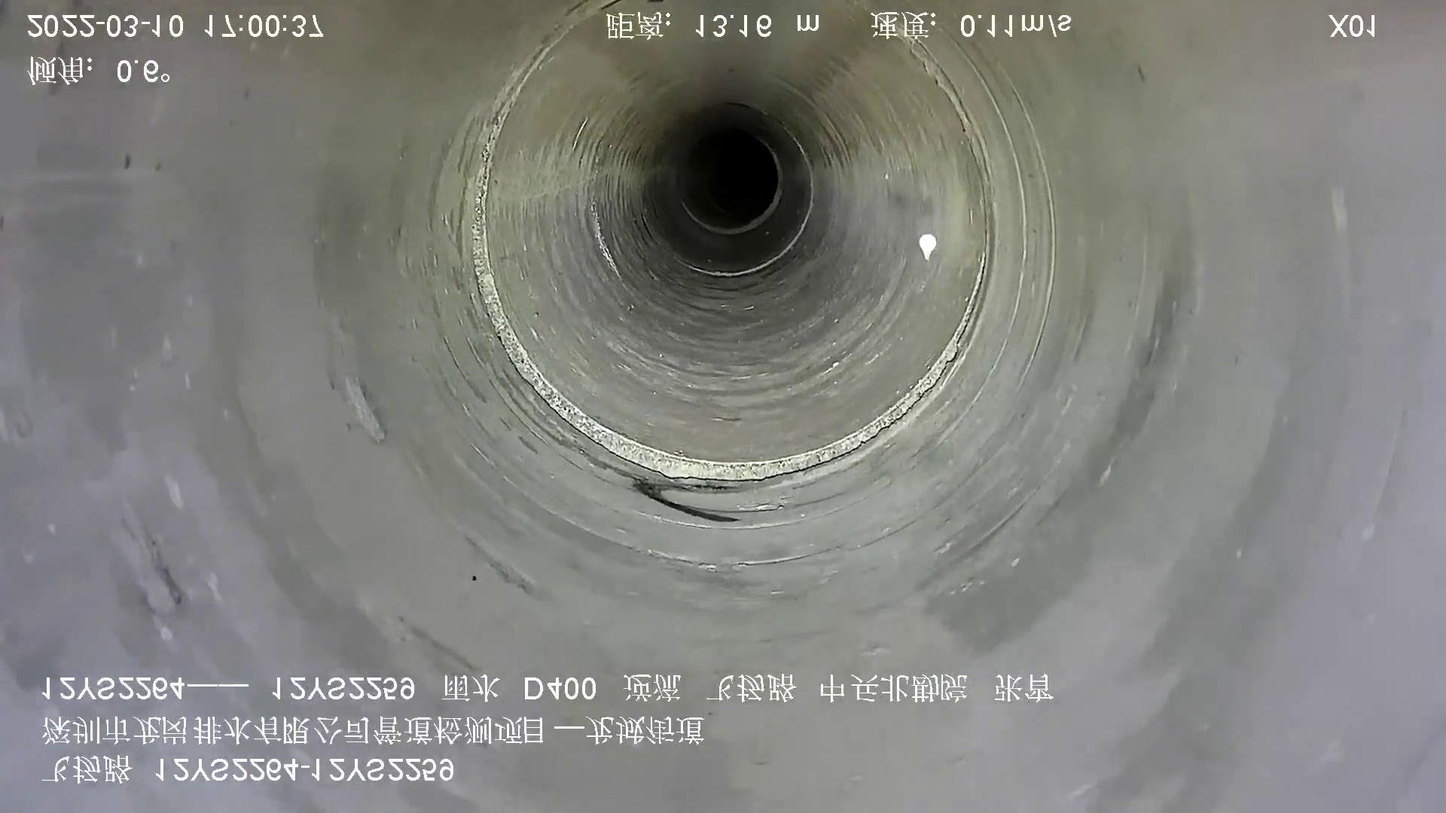CKTJ: (465, 4, 999, 483)
